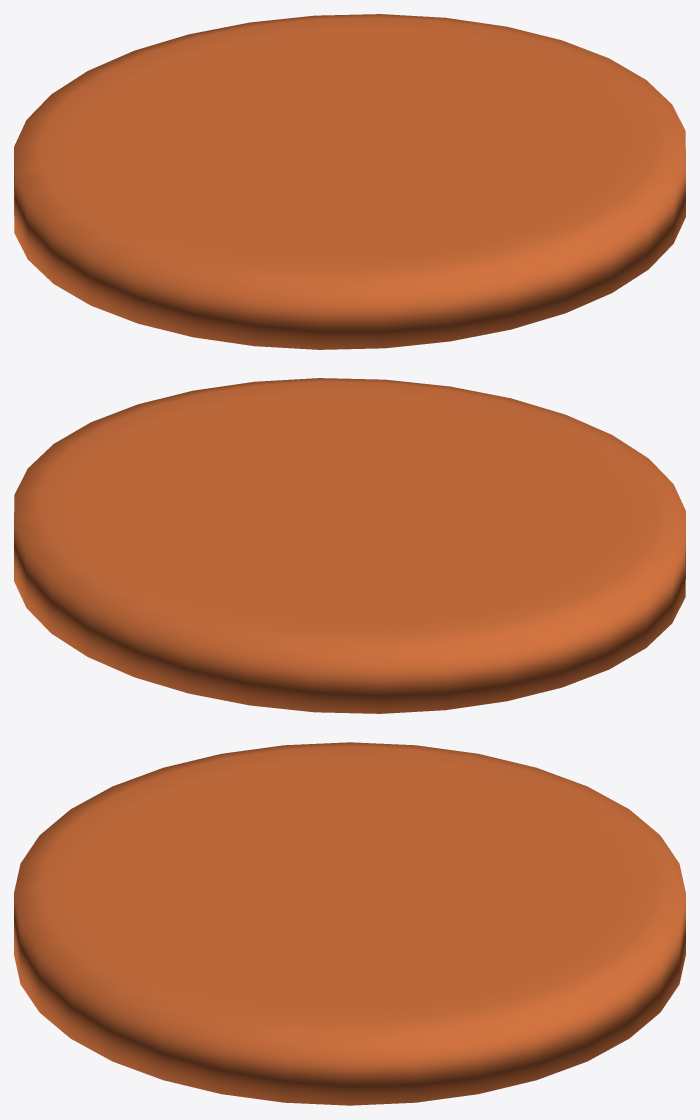
The model's file is lowerbread.glb.
3 views of the same model, one above another, from view 1: azimuth 30°, elevation 25°; view 2: azimuth 150°, elevation 25°; view 3: azimuth 270°, elevation 25° (orthographic). The views are drawn at different scales.
Visible parts, largest first — view 1: bred down.001; view 2: bred down.001; view 3: bred down.001.
Part boxes in pixels (x1,y1,x2,y2): bred down.001: (14, 14, 685, 349); bred down.001: (14, 378, 685, 713); bred down.001: (14, 742, 685, 1105).
Size of the model in its own units: 2.52 by 0.2942 by 2.37.
